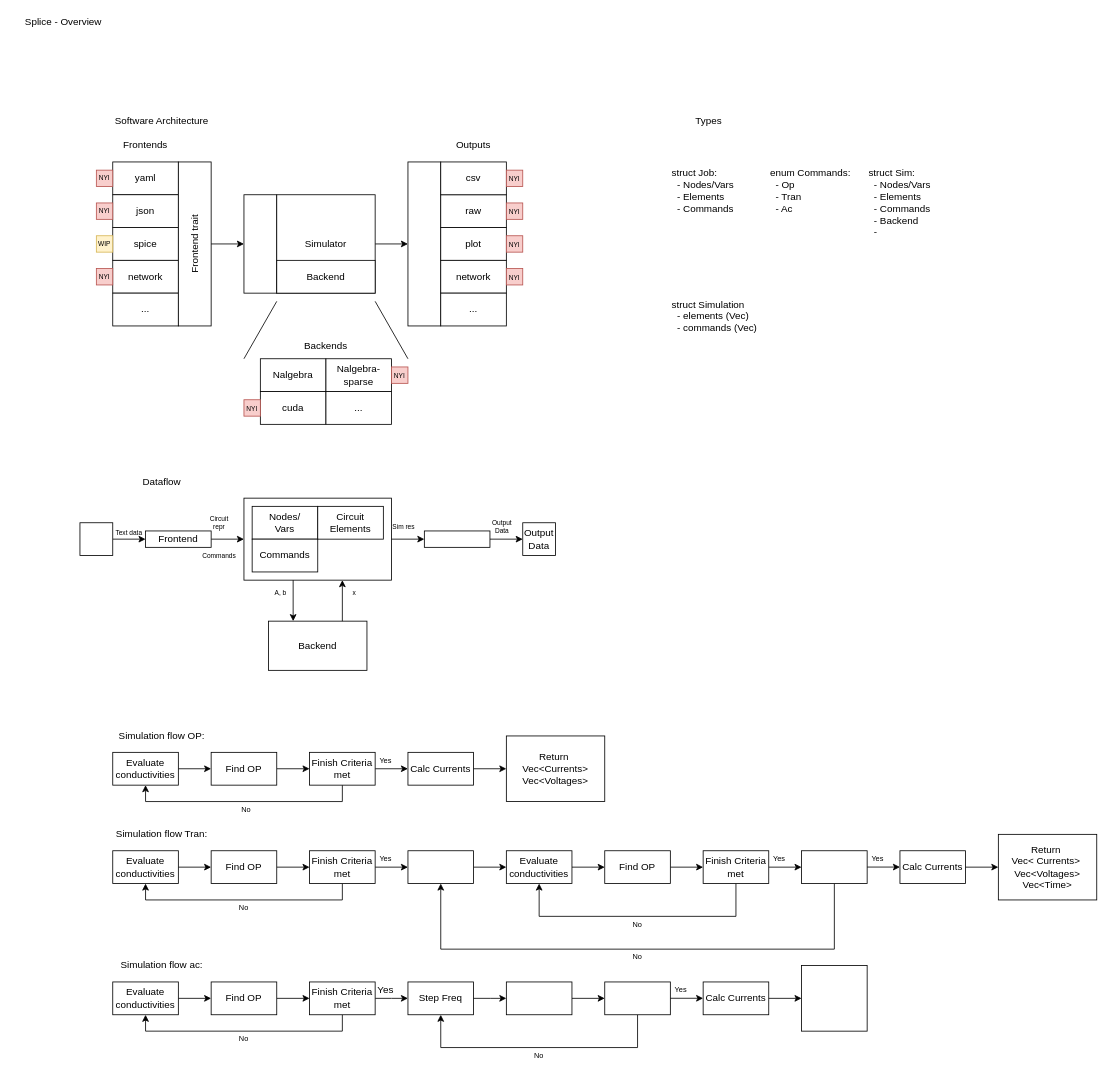
The diagram is 1111 pixels wide and 1077 high, and some of its shapes have lost their labels. The shapes that lost their labels are listed below. From the top down, each one's centre as x and y in pixels, then its label:
At [260,243]: "From".
At [424,243]: "Output trait".
At [96,539]: "Text".
At [457,538]: "Output".
At [440,867]: "Step Time".
At [834,867]: "Finish Time met".
At [539,998]: "Evaluate admittance".
At [637,998]: "Finish Freq met".
At [834,998]: "Return Vec<Gain> Vec<Phase> Vec<Freq>".
